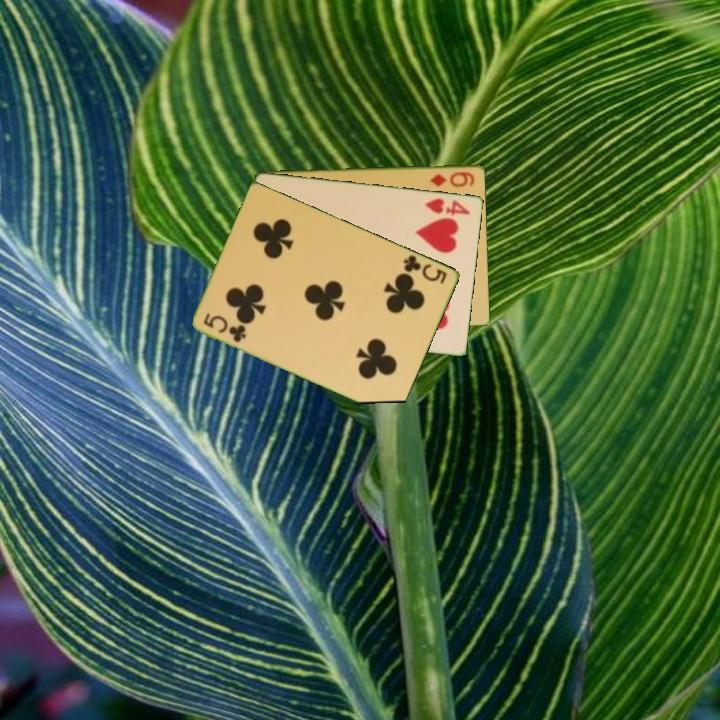4h: (422, 194, 473, 218)
5c: (200, 309, 249, 345), (400, 251, 450, 286)
6d: (427, 168, 477, 190)
